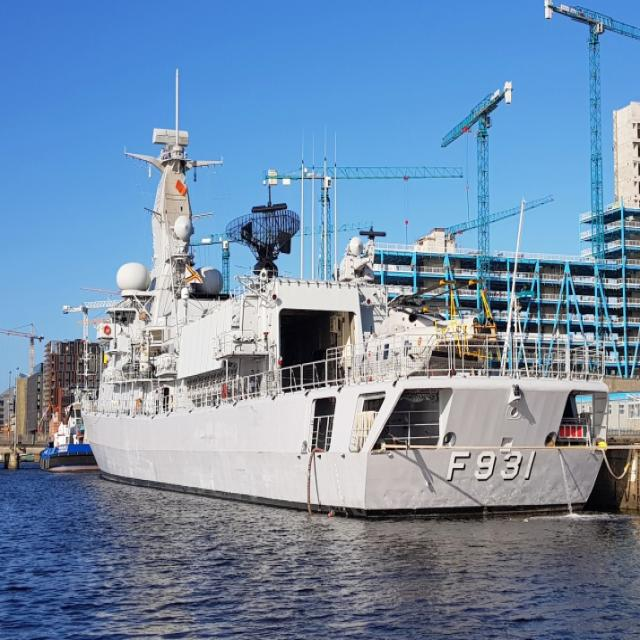Fragata: (75, 69, 613, 513)
